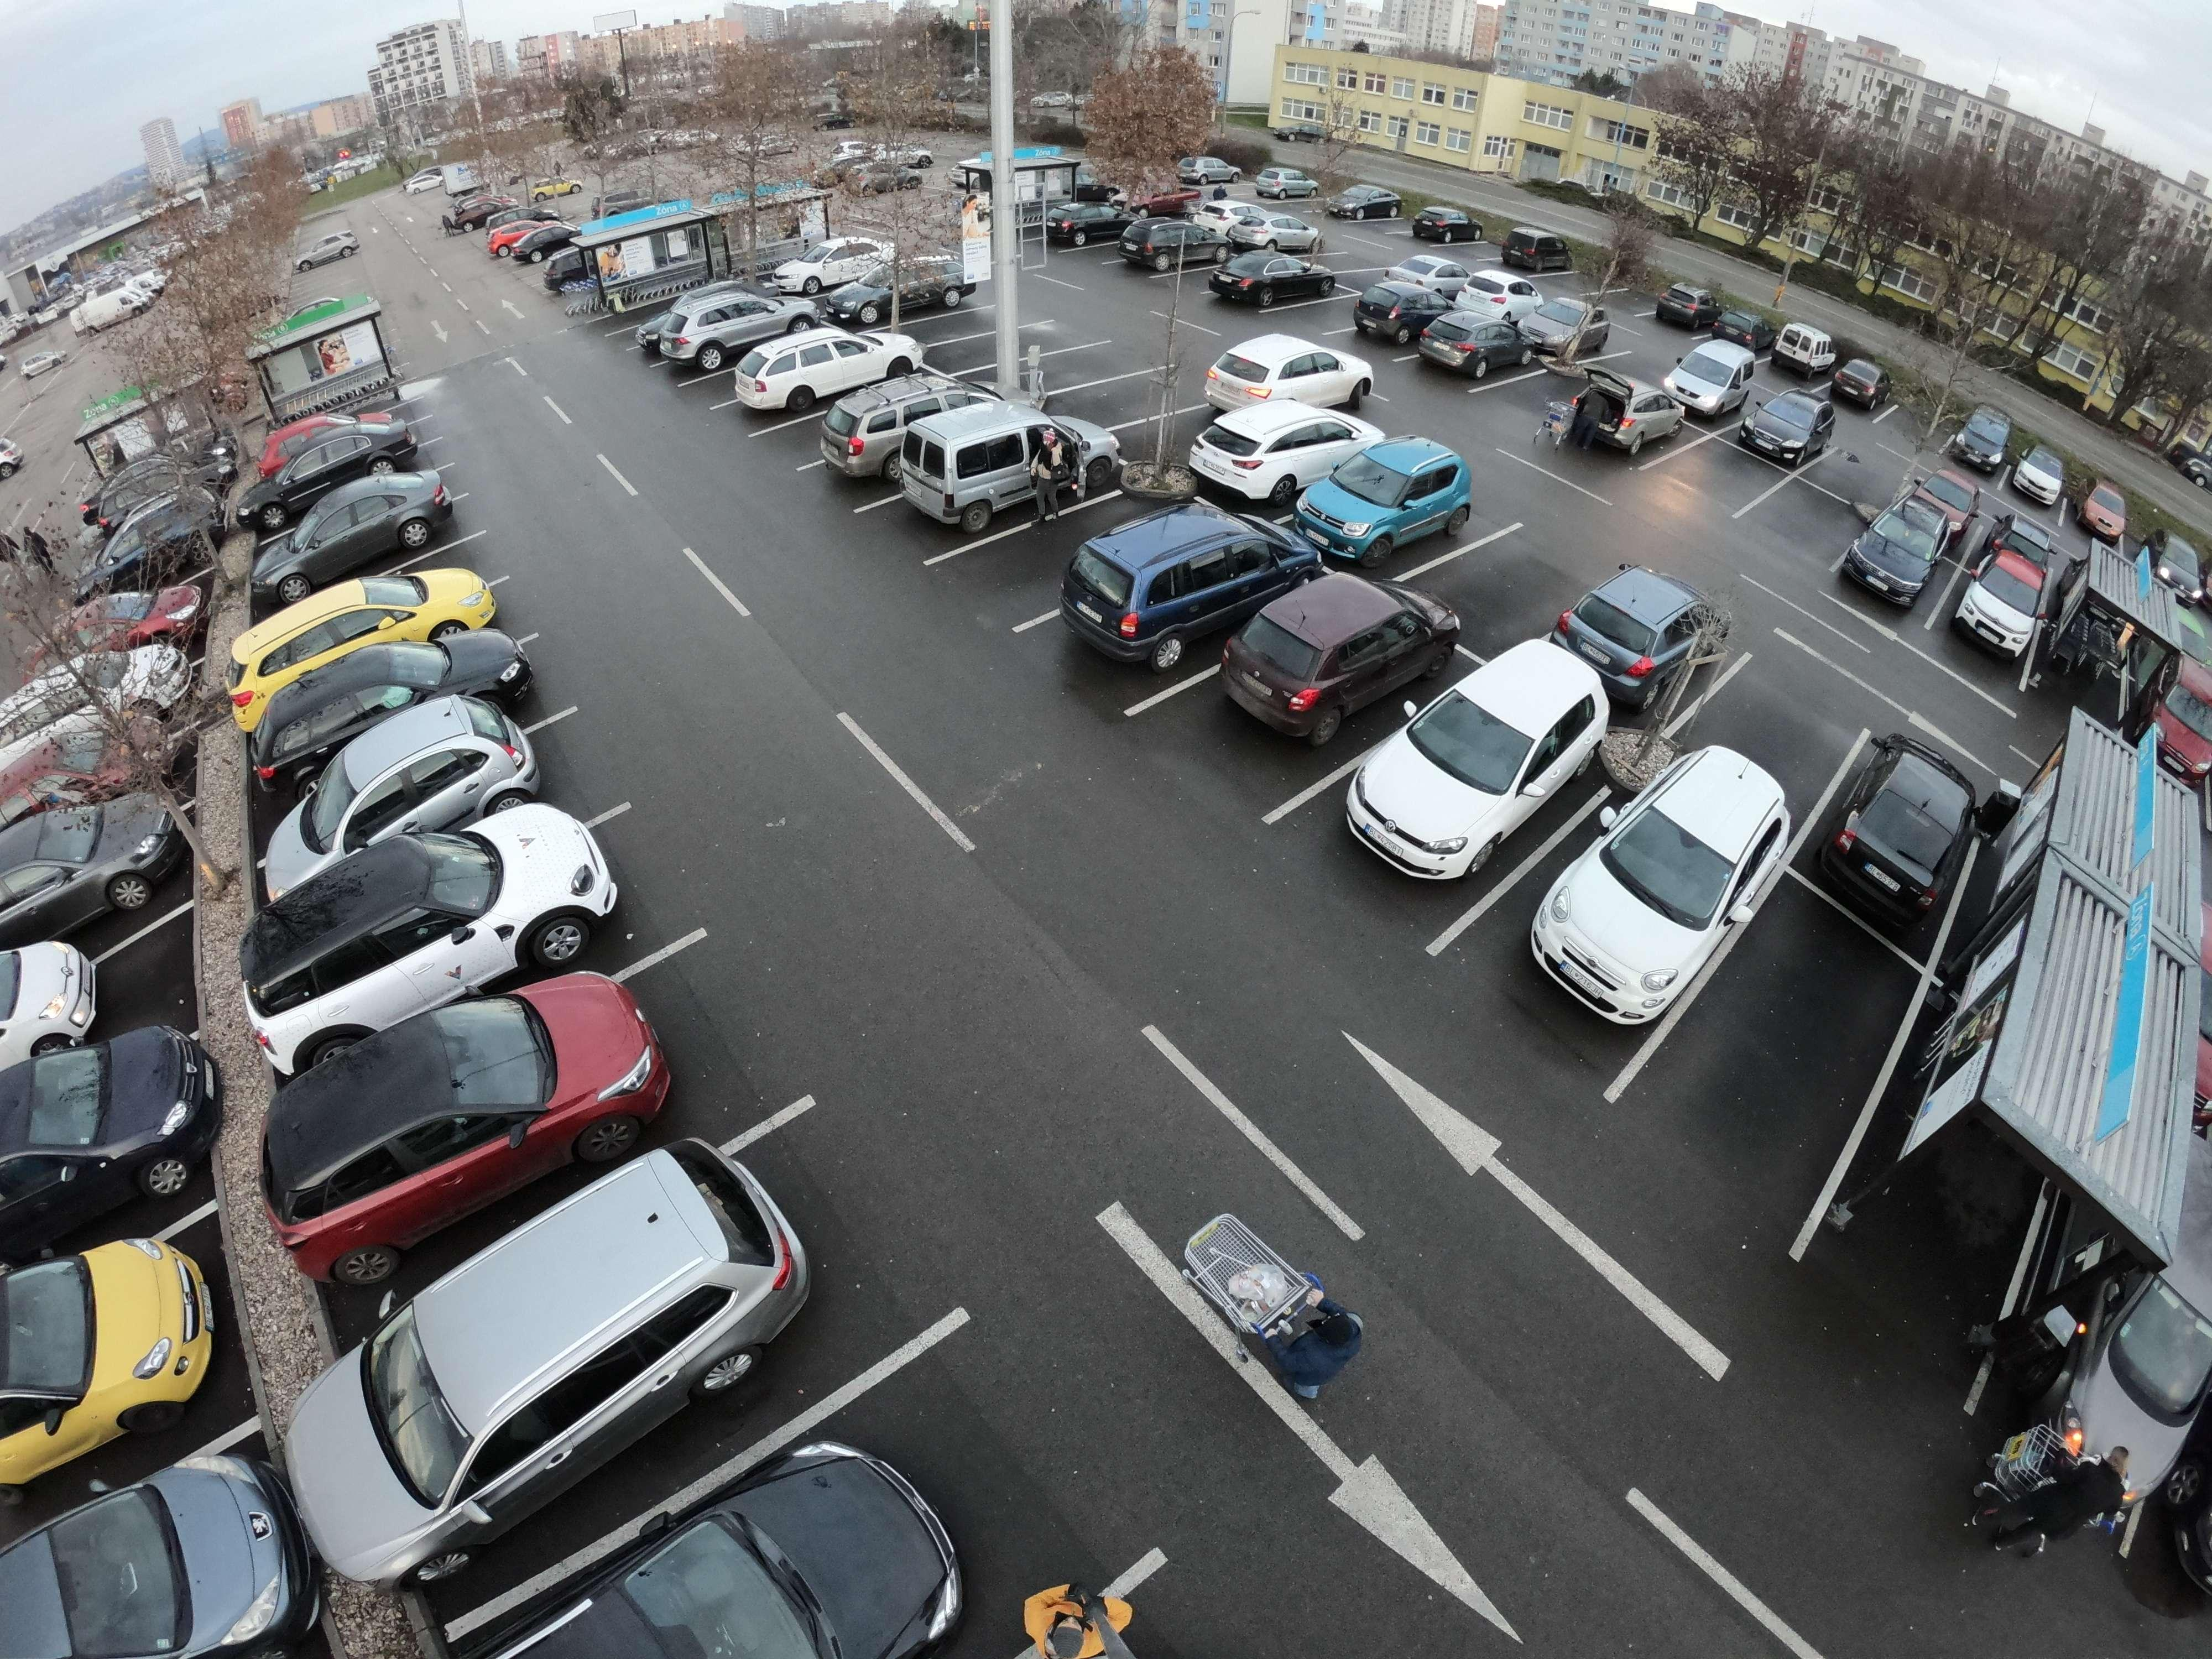empty: (314, 1127, 853, 1589), (467, 1432, 996, 1656), (294, 985, 686, 1243), (272, 814, 648, 1019), (1343, 626, 1641, 878), (1545, 734, 1815, 1007), (21, 1462, 310, 1657), (16, 1239, 230, 1497), (14, 1028, 219, 1262), (280, 709, 557, 870), (1055, 511, 1298, 666), (1226, 591, 1433, 744), (1817, 739, 2001, 910), (260, 629, 523, 748), (239, 568, 505, 680), (887, 406, 1111, 530), (9, 795, 172, 955), (253, 486, 469, 592), (1296, 441, 1480, 554), (1552, 563, 1730, 676), (1184, 403, 1369, 502), (730, 333, 909, 425), (820, 383, 991, 476), (254, 423, 420, 512), (651, 293, 817, 380), (1946, 544, 2064, 659), (1552, 378, 1693, 469), (1838, 505, 1963, 605), (1204, 329, 1364, 401), (1420, 307, 1561, 385), (1735, 387, 1841, 465), (1216, 249, 1348, 310), (1350, 281, 1467, 347), (1132, 221, 1245, 279), (1949, 408, 2020, 476), (1761, 324, 1844, 380), (1829, 354, 1897, 411), (2005, 448, 2073, 505)
occupied: (1696, 976, 1872, 1100), (1700, 685, 1858, 802), (1444, 552, 1555, 619), (1827, 420, 1902, 505), (1087, 359, 1158, 434), (1763, 498, 1851, 552), (1670, 457, 1752, 498), (1519, 368, 1594, 411), (932, 298, 989, 345)
